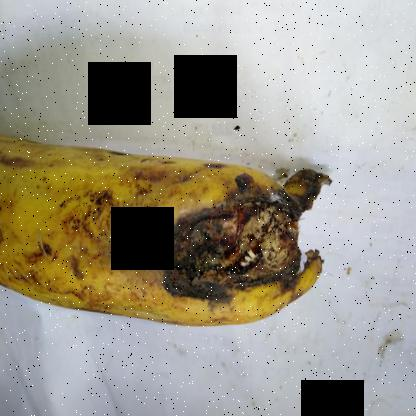ripe: (1, 112, 317, 342)
rotten: (136, 169, 350, 323)
